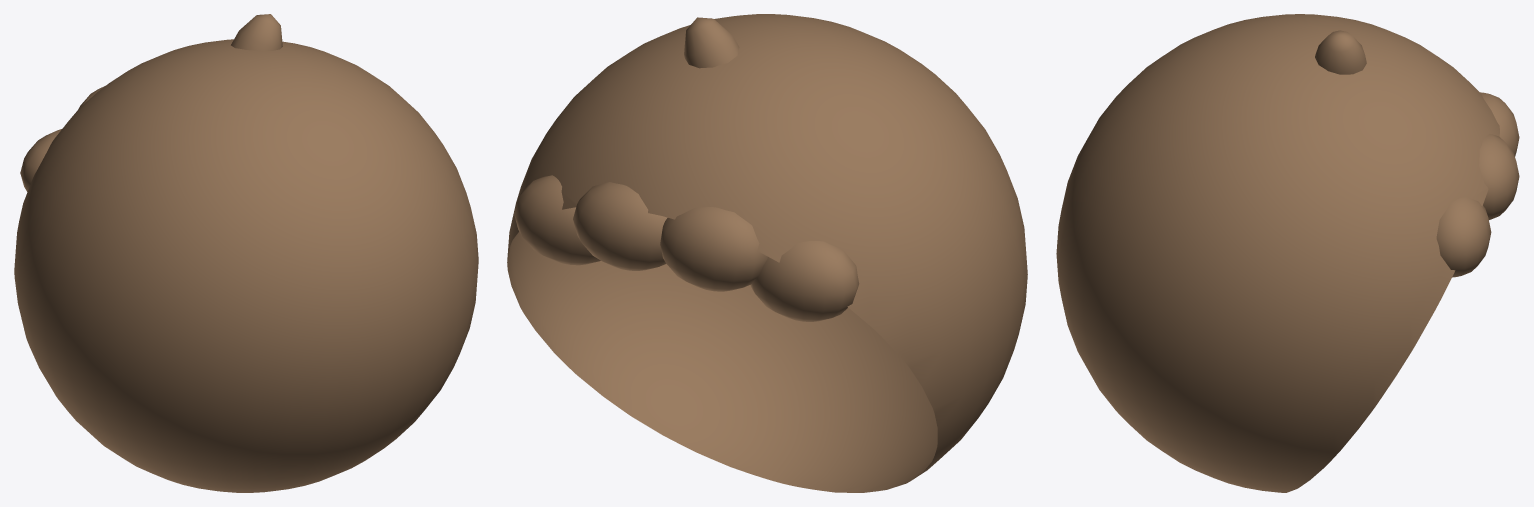
File: short.glb
3 renders of one model, left to right at view 1: azimuth 30°, elevation 25°; view 2: azimuth 150°, elevation 25°; view 3: azimuth 270°, elevation 25°, orthographic. The views are drawn at different scales.
Parts seen in each view (by area): view 1: Head; view 2: Head; view 3: Head.
Boxes of the visible parts, bbox=[...] form: Head: bbox=[14, 14, 478, 492]; Head: bbox=[507, 14, 1027, 492]; Head: bbox=[1056, 14, 1519, 492].
Bounding box in the file's own units: 0.4066 × 0.4146 × 0.3829.
